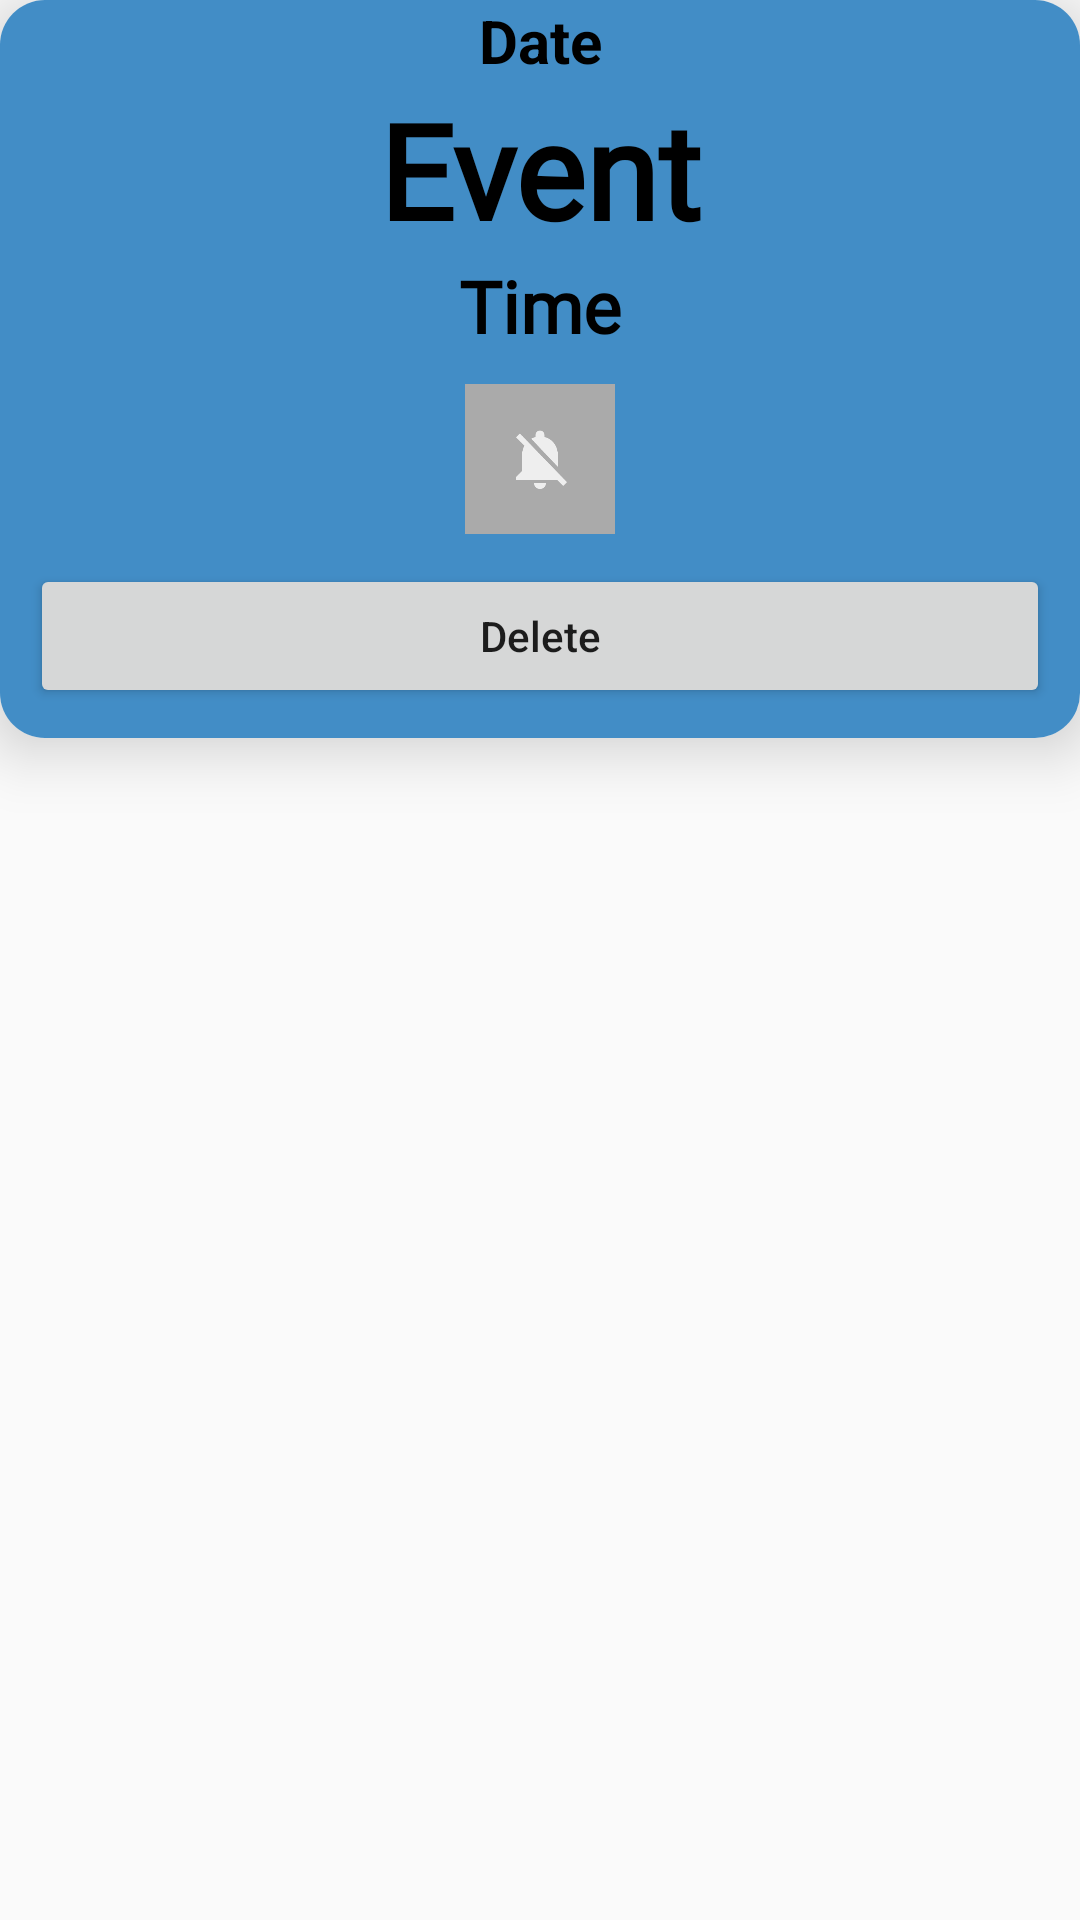

Point at icon controls on the screen. Image size 1080*1920, points as point (x, y).
notification off: point (540, 459)
